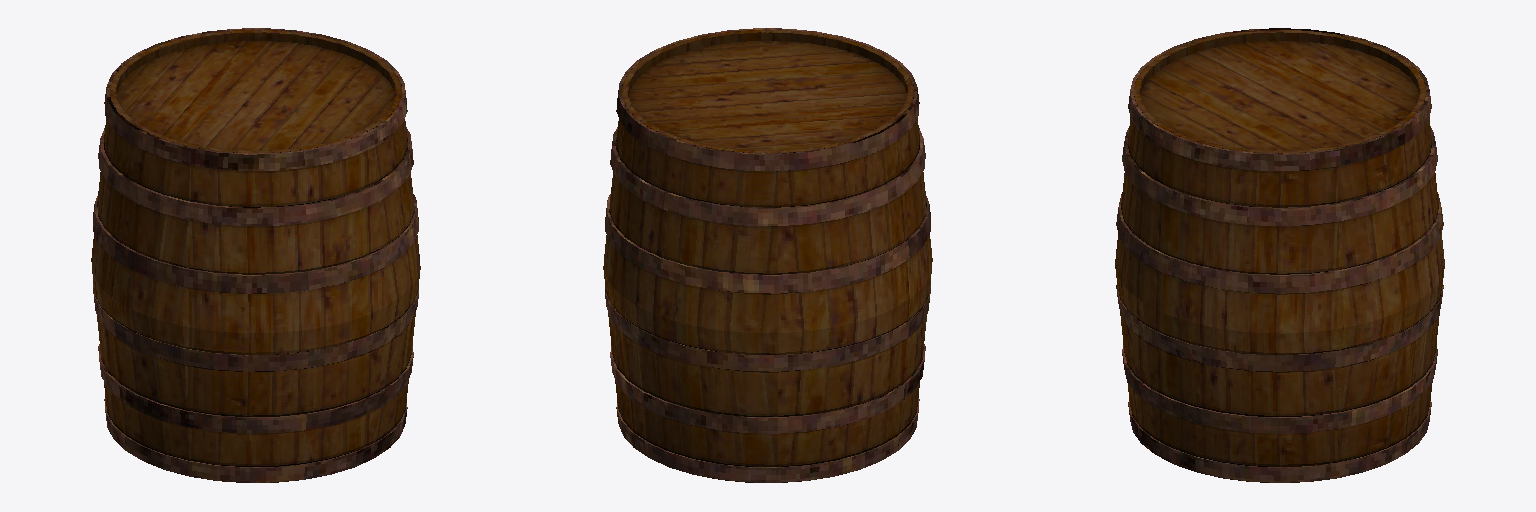
The picture shows the model from 3 angles: view 1: azimuth 30°, elevation 25°; view 2: azimuth 150°, elevation 25°; view 3: azimuth 270°, elevation 25°; orthographic projection.
Parts seen in each view (by area): view 1: Cylinder; view 2: Cylinder; view 3: Cylinder.
Boxes of the visible parts, box(x1,y1,x2,y2) form: Cylinder: box(91, 28, 420, 482); Cylinder: box(603, 28, 932, 482); Cylinder: box(1115, 28, 1444, 482).
Size of the model in its own units: 0.9087 by 1 by 0.9087.
2 materials, 2 textured.